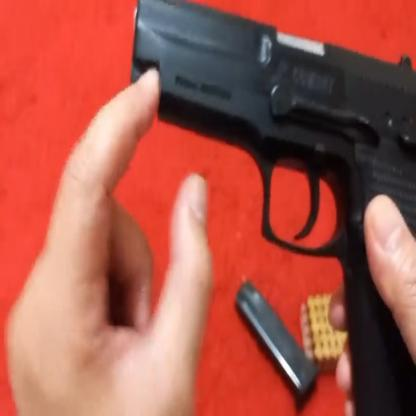handgun: (130, 0, 416, 385)
